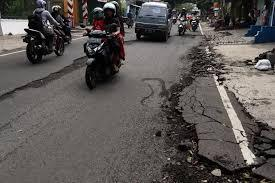Pothole: (126, 62, 185, 119), (188, 31, 237, 41)
